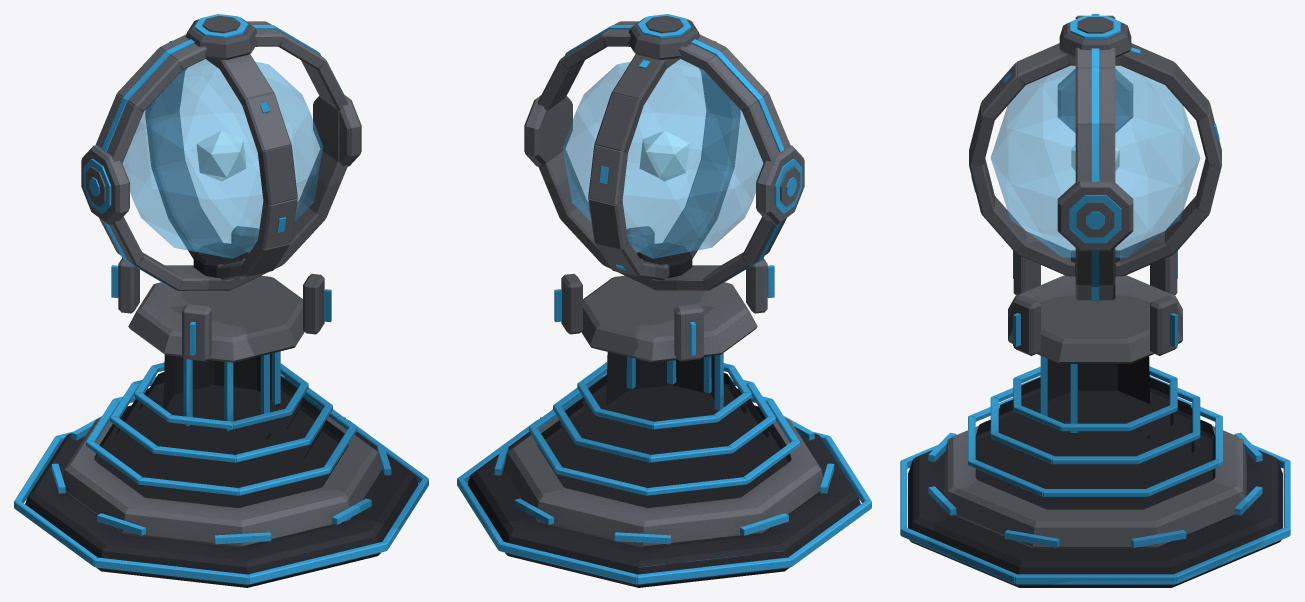
Rendered from SM_Shield.fbx.
3 views of the same model, side by side, from view 1: azimuth 30°, elevation 25°; view 2: azimuth 150°, elevation 25°; view 3: azimuth 270°, elevation 25° (orthographic).
Parts seen in each view (by area): view 1: SMN_Shield, EmitterShell, EmitterRingB, EmitterRingA, Emitter, EmitterCore; view 2: SMN_Shield, EmitterShell, EmitterRingB, EmitterRingA, Emitter, EmitterCore; view 3: SMN_Shield, EmitterShell, EmitterRingB, EmitterRingA, Emitter.
Boxes of the visible parts, x1,y1,x2,y2 form: SMN_Shield: (14,226,428,587); EmitterShell: (122,59,322,258); EmitterRingB: (81,21,361,290); EmitterRingA: (145,40,297,280); Emitter: (185,14,257,277); EmitterCore: (196,130,246,181); SMN_Shield: (457,226,871,587); EmitterShell: (563,59,763,258); EmitterRingB: (524,21,804,290); EmitterRingA: (588,40,740,280); Emitter: (628,14,700,277); EmitterCore: (639,130,689,181); SMN_Shield: (900,250,1290,587); EmitterShell: (990,65,1200,257); EmitterRingB: (1057,14,1133,301); EmitterRingA: (969,43,1221,276); Emitter: (1059,15,1131,276).
Bounding box in the file's own units: 0.688 × 0.9445 × 0.688.
